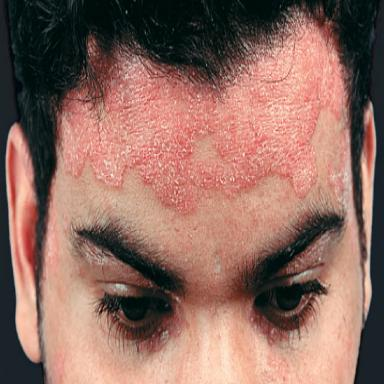Psoriasis: (59, 26, 343, 212), (329, 124, 358, 231), (343, 168, 348, 176)
